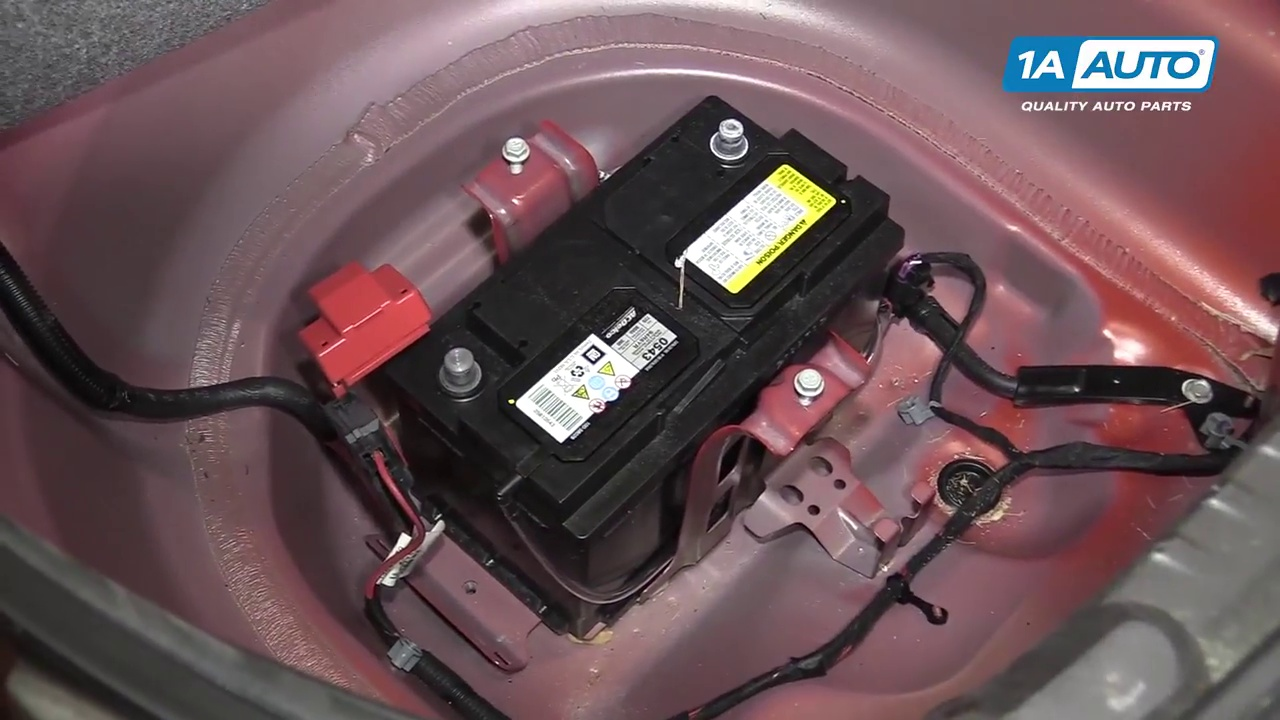battery: (405, 83, 900, 530)
neg_disconnected: (693, 99, 767, 186)
pos_disconnected: (303, 261, 507, 425)
